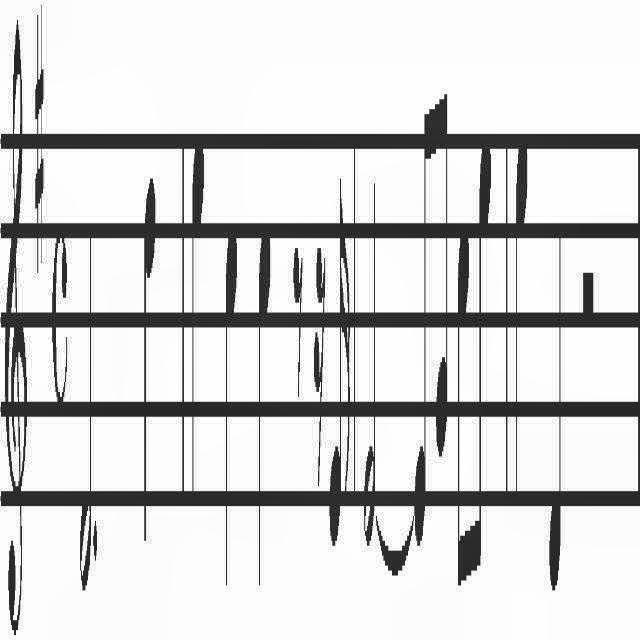Bass-clef: (2, 0, 30, 640)
Diez: (34, 0, 48, 286)
Eighth-note: (471, 80, 494, 640), (412, 64, 430, 570), (433, 59, 451, 500), (454, 197, 472, 638)
Eighth-rest: (292, 194, 304, 426)
Half-note: (74, 202, 92, 640), (362, 154, 378, 606)
Quarter-note: (511, 76, 532, 604), (188, 124, 208, 562), (548, 158, 566, 626), (138, 129, 158, 546), (222, 202, 242, 606), (255, 163, 272, 617)
Sixteenth-note: (328, 133, 352, 587)
